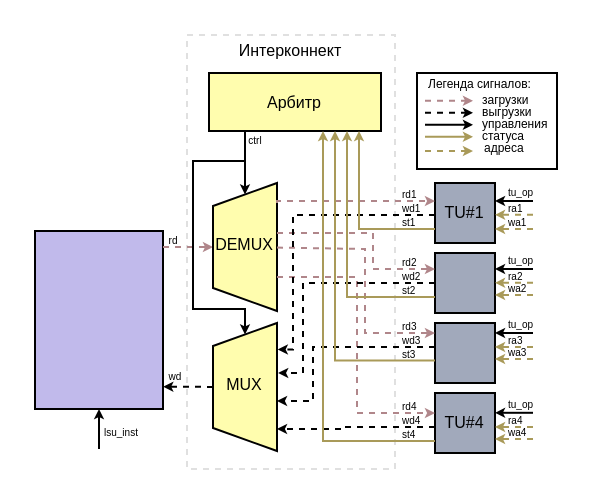
This 592x504 diagram has some shape labels left out. Each missing label, with the centre of its shape:
"LSU" goes at (98,319).
"TU#2" goes at (464,282).
"TU#3" goes at (464,352).
